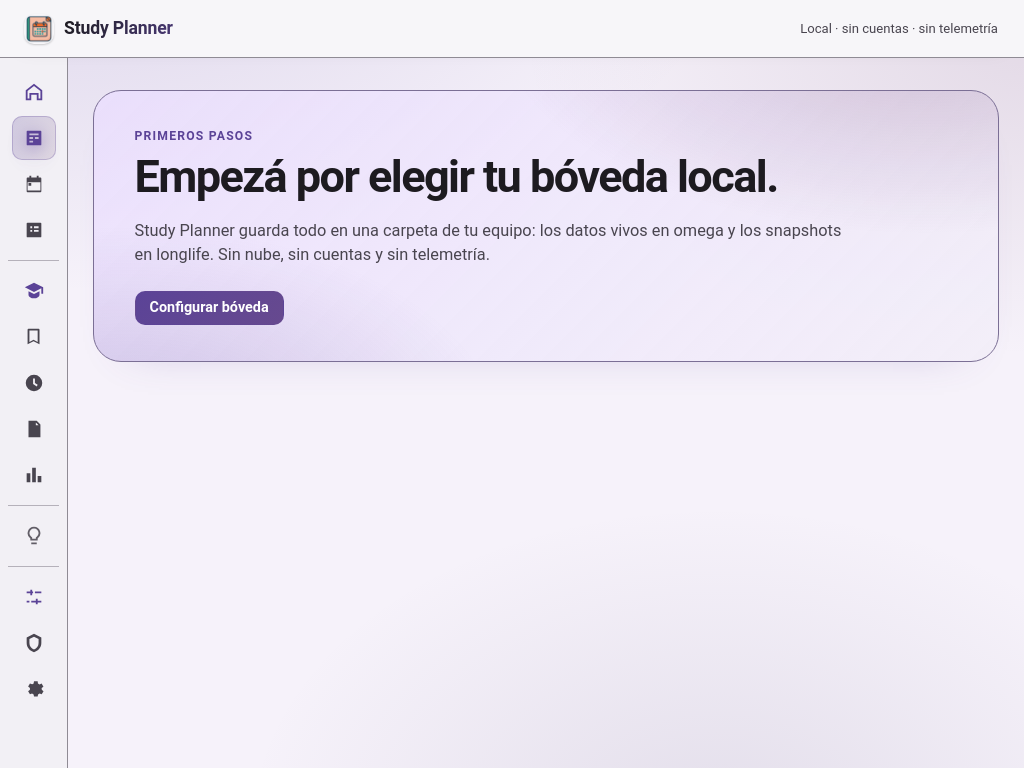
App en navegador › muestra Ajustes y pide configurar la bóveda
This screenshot has width=1024, height=768.
Click the button named "Ajustes" at (34, 689), box [12, 667, 56, 711]
(page scrolled)
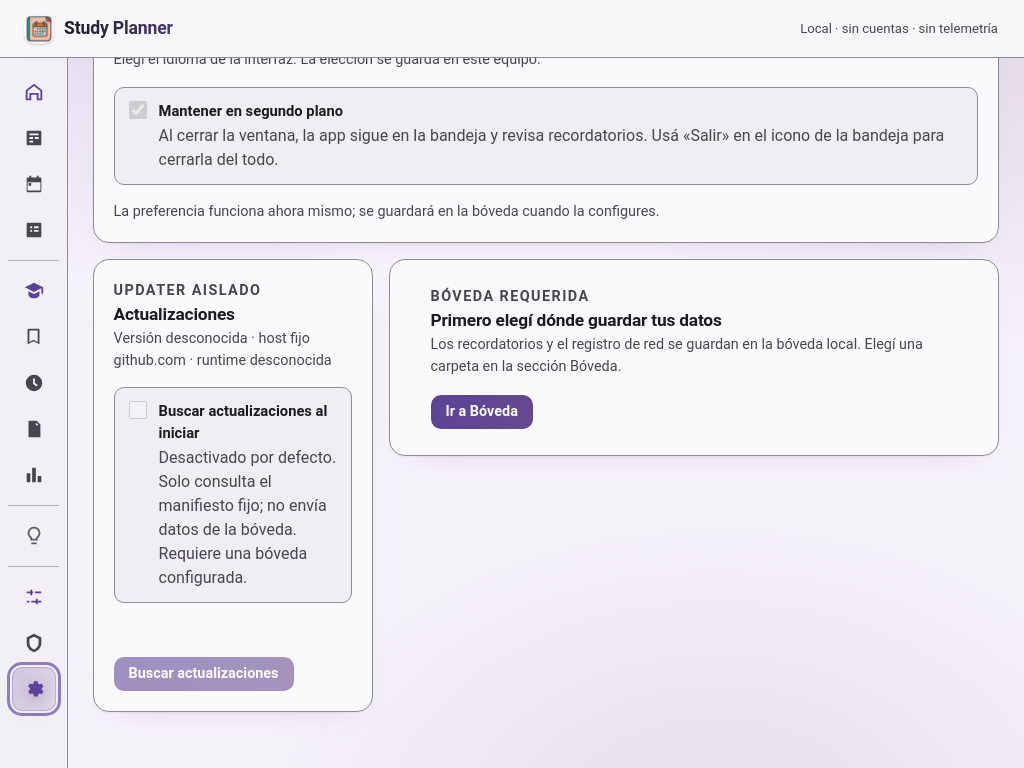
Now the text "Bóveda requerida" is shown, box [430, 286, 590, 308]
Now the button "Ir a Bóveda" is shown, box [430, 395, 533, 428]
